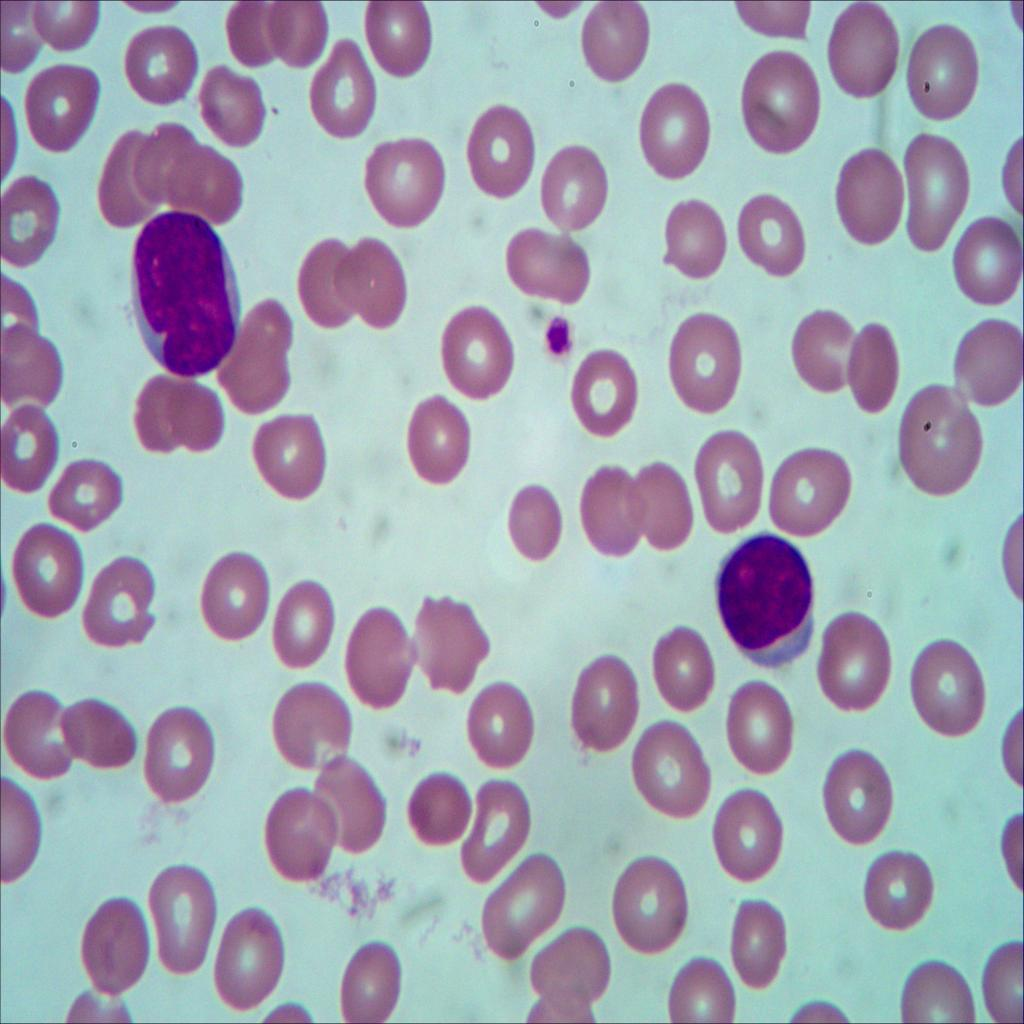Eritrosit: (725, 50, 826, 174), (628, 714, 722, 832), (565, 0, 669, 105), (898, 382, 988, 503), (403, 590, 500, 702), (352, 124, 450, 233), (428, 304, 528, 410), (808, 601, 898, 718), (902, 633, 995, 745), (603, 845, 687, 966), (900, 126, 977, 258), (73, 545, 164, 655), (139, 693, 223, 812), (814, 740, 902, 852), (304, 24, 383, 146), (479, 850, 565, 961), (270, 674, 360, 779), (141, 863, 217, 985), (904, 21, 989, 130), (658, 311, 742, 420), (308, 745, 390, 853), (636, 84, 714, 195), (820, 6, 908, 104), (718, 677, 805, 776), (210, 901, 289, 1010), (729, 192, 815, 292), (195, 62, 280, 162), (405, 398, 489, 499), (18, 58, 104, 156), (766, 434, 852, 532), (696, 422, 770, 534), (340, 603, 412, 718), (704, 788, 792, 882), (77, 883, 152, 993), (566, 344, 645, 447), (461, 672, 540, 774), (262, 788, 338, 893), (0, 168, 73, 277), (200, 541, 274, 647), (630, 452, 706, 555), (250, 409, 332, 504), (831, 311, 904, 417), (856, 834, 940, 926), (836, 146, 910, 250), (468, 104, 541, 208), (505, 227, 592, 314), (51, 696, 139, 782), (462, 780, 532, 888), (9, 520, 83, 622), (568, 655, 643, 755), (658, 192, 734, 290), (339, 238, 411, 341), (780, 297, 862, 387), (0, 401, 72, 501), (729, 899, 801, 997), (329, 928, 402, 1024), (954, 310, 1024, 410), (536, 143, 609, 238), (647, 623, 718, 720), (951, 214, 1024, 308), (522, 923, 604, 1005), (6, 688, 74, 786), (268, 576, 338, 670), (498, 471, 563, 572), (50, 456, 132, 534), (405, 761, 472, 856), (655, 951, 742, 1024), (892, 953, 980, 1024), (220, 328, 296, 410), (118, 35, 200, 110), (218, 0, 298, 76), (0, 322, 61, 420), (164, 382, 233, 468), (294, 230, 355, 327), (133, 368, 197, 460), (361, 0, 432, 79), (581, 466, 640, 558), (234, 292, 295, 370), (265, 0, 329, 67), (0, 0, 50, 75), (32, 0, 98, 56)
Limfoblast: (121, 208, 246, 382), (710, 524, 819, 670)
Platelet: (534, 308, 590, 372)
